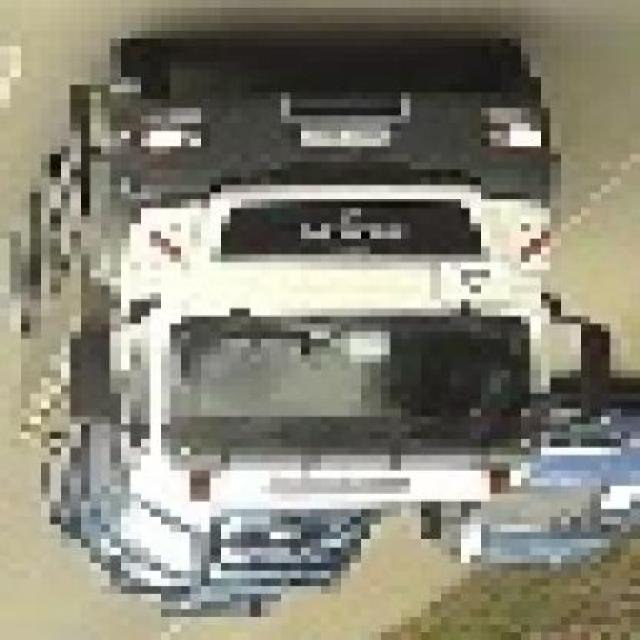truck: (1, 24, 610, 633)
